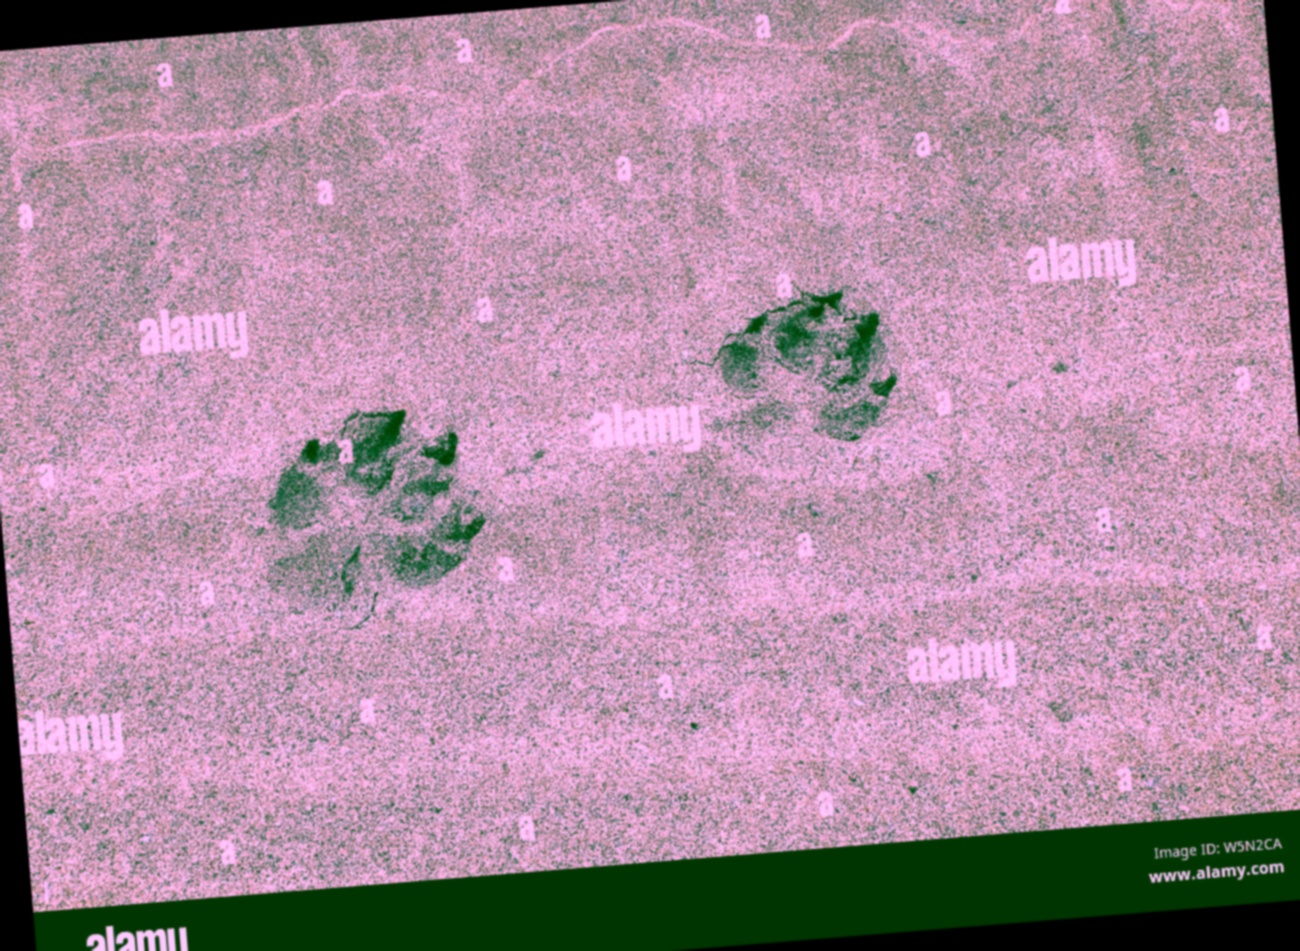loup: (213, 365, 516, 655), (663, 256, 931, 511)
